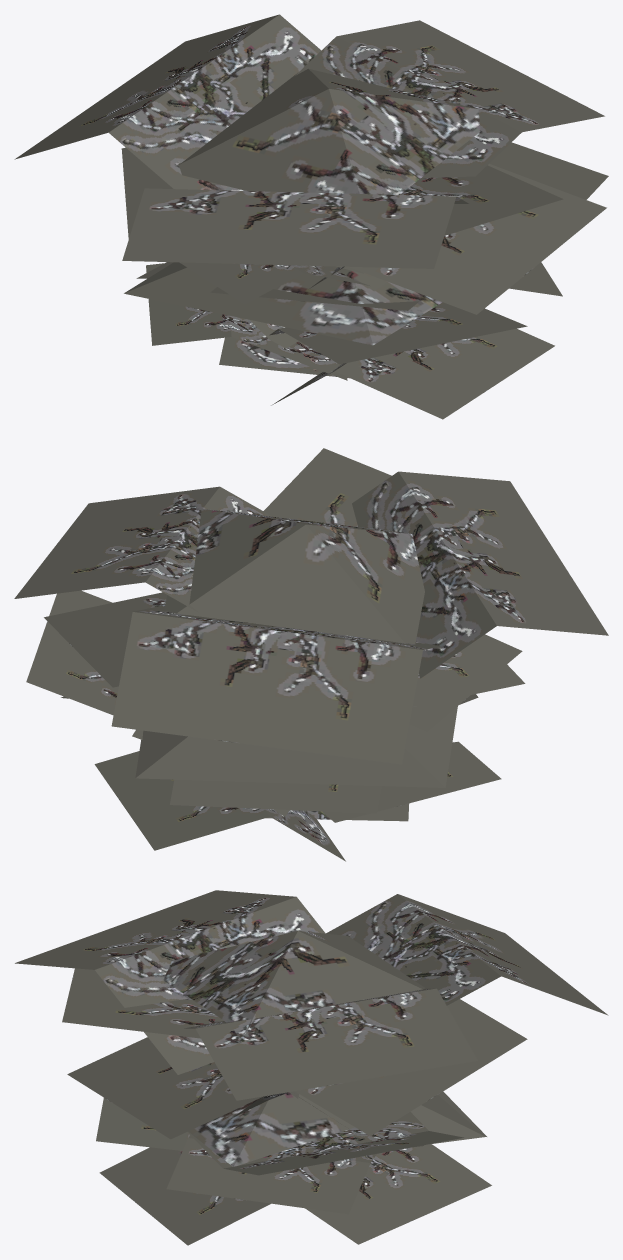
File: flora_tree_bush_temperate_winter_v2.glb
The picture shows the model from 3 angles, top to bottom: view 1: azimuth 30°, elevation 25°; view 2: azimuth 150°, elevation 25°; view 3: azimuth 270°, elevation 25°; orthographic projection. The views are drawn at different scales.
Visible parts, largest first — view 1: flora_tree_bush_temperate_winter_v2_part0; view 2: flora_tree_bush_temperate_winter_v2_part0; view 3: flora_tree_bush_temperate_winter_v2_part0.
Part boxes in pixels (left/top/right/bottom): flora_tree_bush_temperate_winter_v2_part0: left=14, top=14, right=608, bottom=419; flora_tree_bush_temperate_winter_v2_part0: left=14, top=448, right=608, bottom=861; flora_tree_bush_temperate_winter_v2_part0: left=15, top=890, right=608, bottom=1245.
Size of the model in its own units: 13.13 by 6.98 by 14.19.
1 material, 1 textured.
